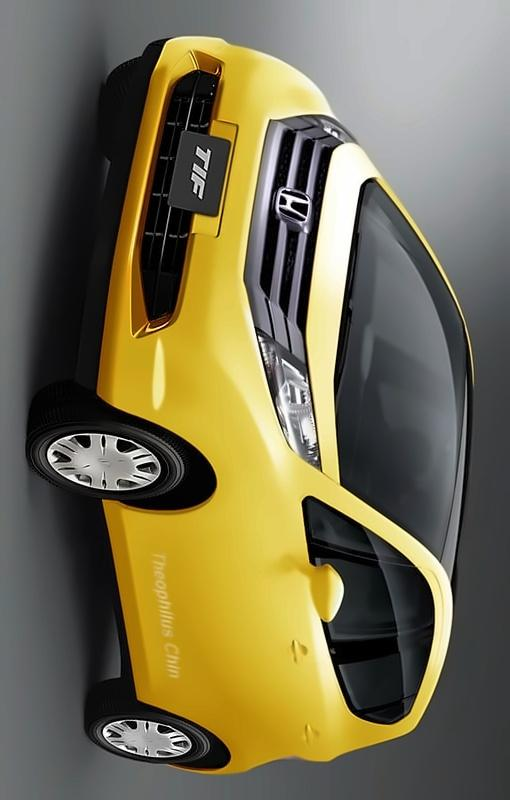Car hood: (304, 137, 381, 487)
Fender - -F-L-: (105, 423, 351, 512)
Front bumper: (87, 27, 246, 455)
Headlight - -L-: (247, 325, 333, 482)
Headlight - -R-: (309, 105, 359, 155)
Passenger-s door - -F-L-: (114, 515, 451, 664)
Passenger-s door - -R-L-: (152, 664, 448, 762)
Side bumper - -L-: (90, 490, 172, 715)
Side mirror - -L-: (299, 560, 359, 630)
